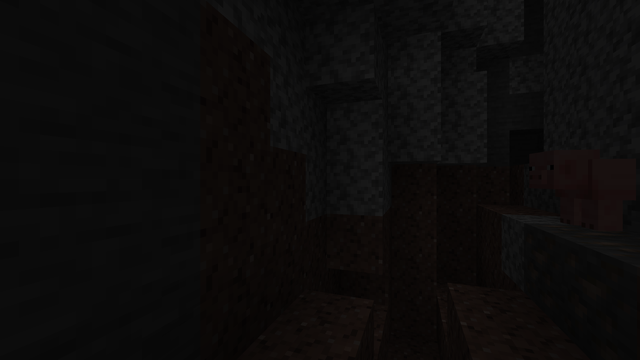cochons: (555, 156, 639, 232)
